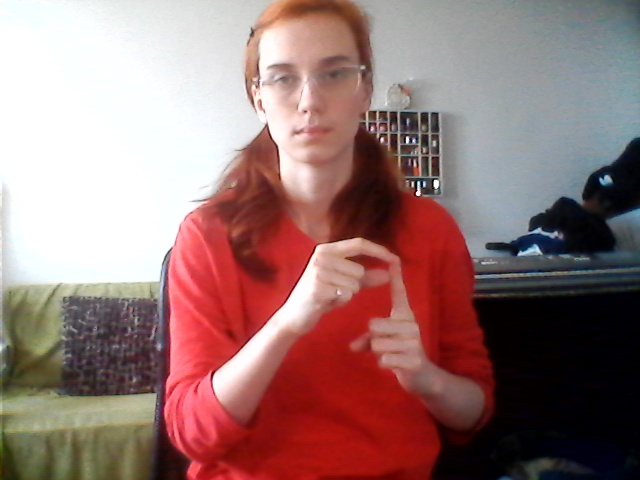p: (280, 233, 429, 408)
